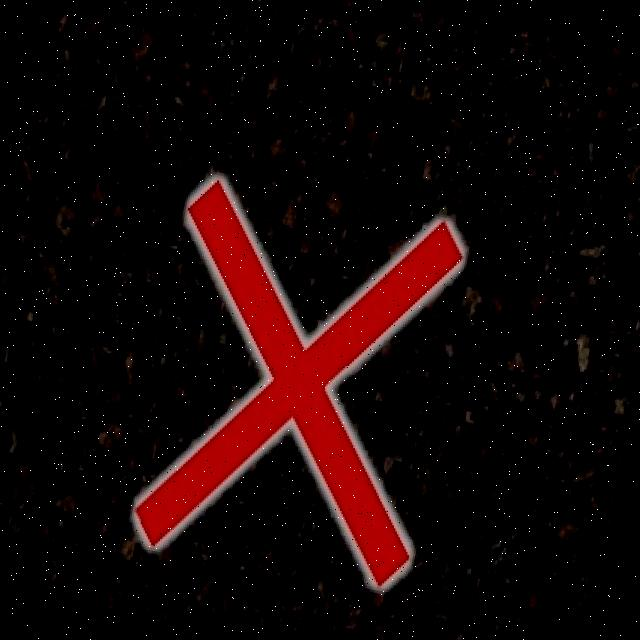x_marker: (130, 175, 466, 588)
